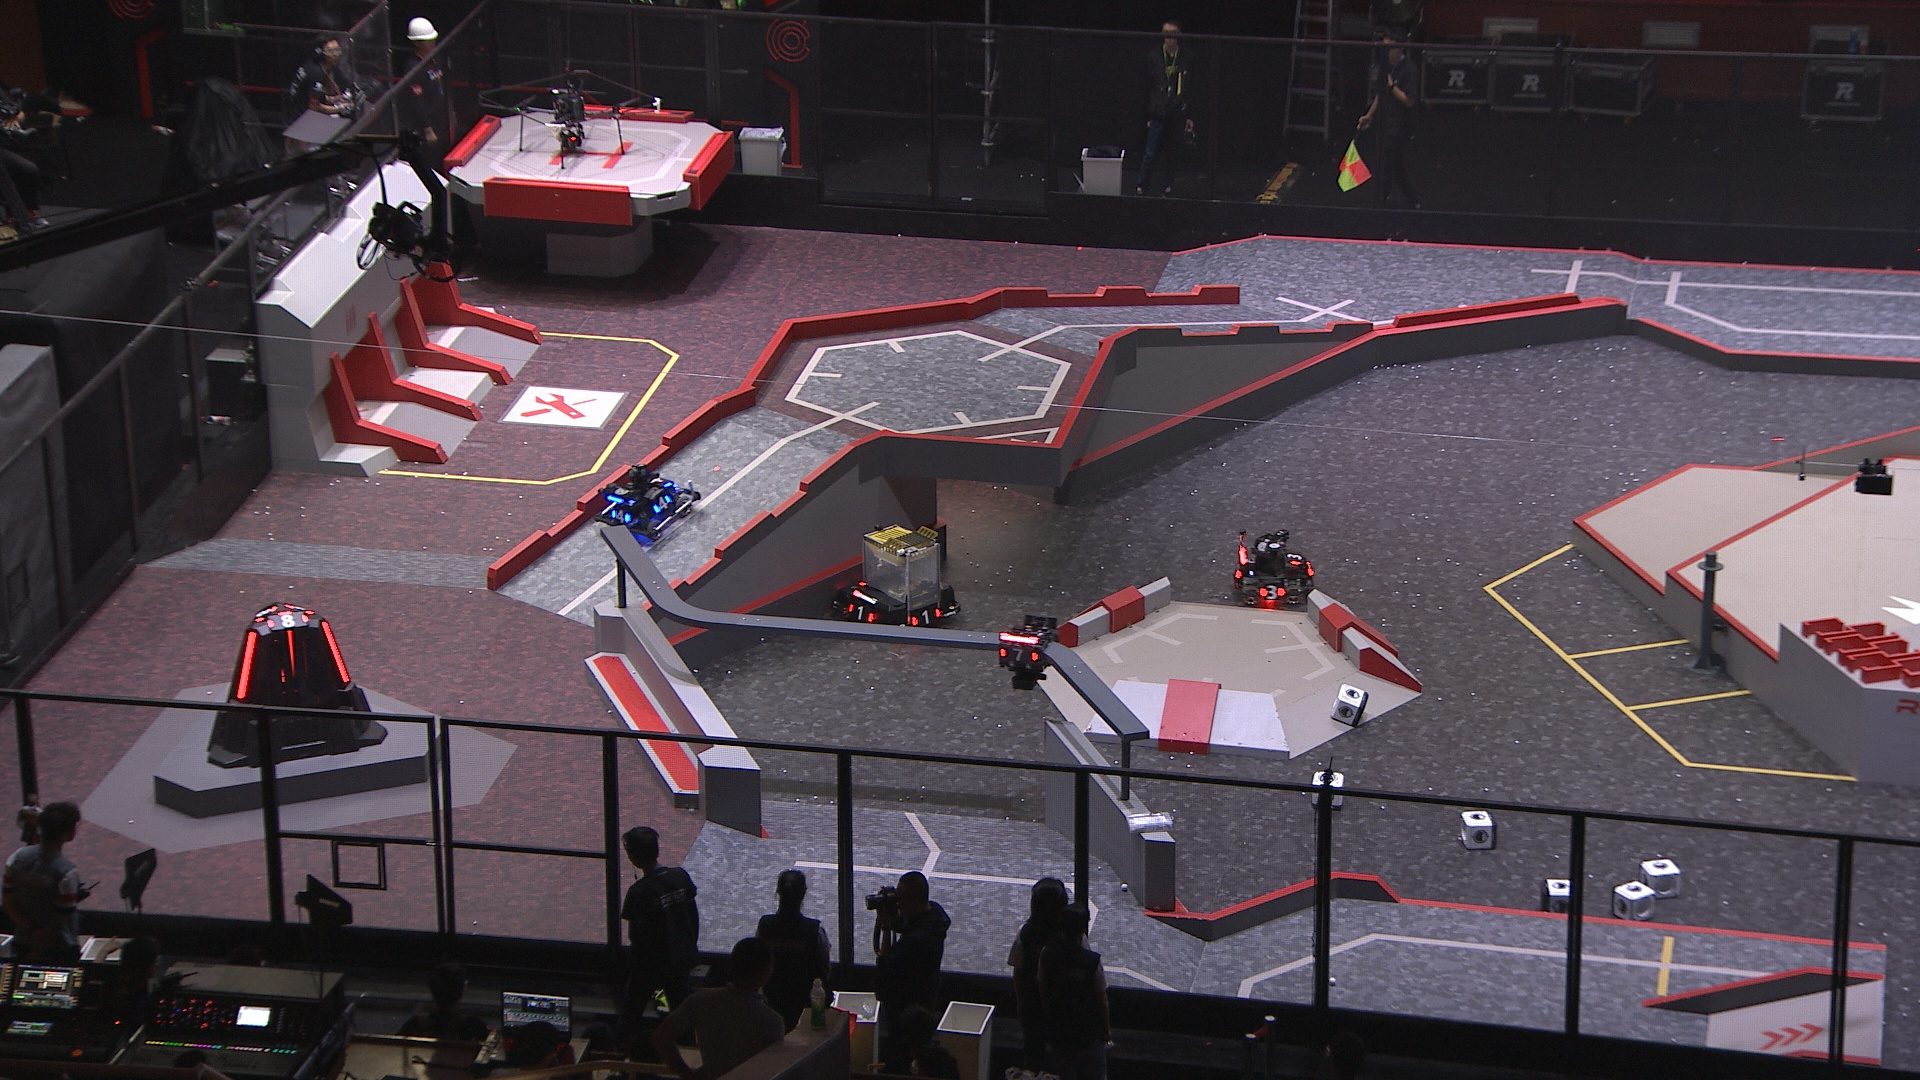armor: (318, 618, 353, 688), (231, 628, 258, 702), (266, 608, 310, 632), (996, 644, 1038, 665), (285, 626, 299, 676), (910, 605, 942, 626), (847, 603, 874, 624), (252, 603, 276, 626), (1257, 582, 1287, 600), (647, 495, 673, 514), (647, 472, 675, 489), (608, 506, 632, 526), (289, 600, 313, 617), (1287, 547, 1305, 564), (1232, 560, 1245, 580)
base: (202, 597, 392, 770)
car: (831, 520, 965, 633), (596, 462, 699, 546), (1229, 524, 1317, 609)
watcher: (992, 611, 1059, 690)
